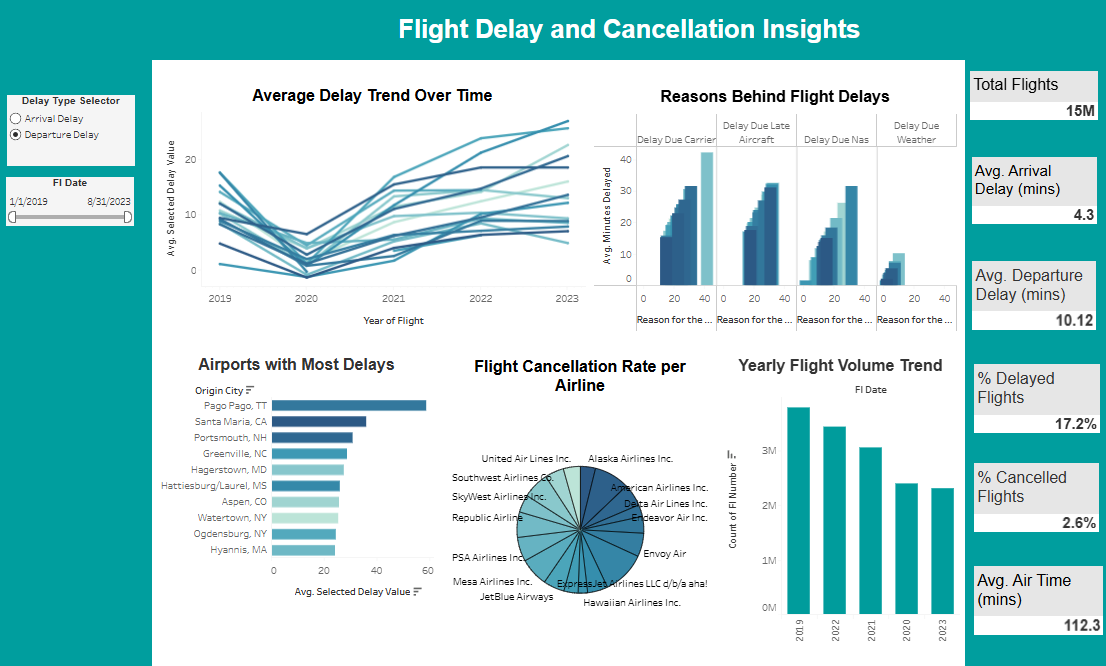

Layout of this report page (visuals, bound fields, positions):
{"tool":"tableau","page":{"name":"Dashboard 1","canvas":[1400,850],"ordinal":0},"visuals":[{"type":"text","box":[197,8,1194,76]},{"type":"worksheet","title":"Total Flights","mark":"Automatic","box":[1220,97,160,60]},{"type":"worksheet","title":"Average Delay Trend Over Time","mark":"Line","rows":["Calculation_1279585273599582211"],"cols":["FL_DATE"],"box":[206,110,534,313]},{"type":"worksheet","title":"Reasons Behind Flight Delays","mark":"Bar","rows":["Pivot Field Values"],"cols":["Pivot Field Names","Pivot Field Values"],"box":[750,112,454,311]},{"type":"parameter","param":"[Parameters].[Parameter 1]","box":[16,127,160,89]},{"type":"worksheet","title":"Avg. Arrival Delay (mins)","mark":"Automatic","box":[1222,205,157,81]},{"type":"filter","title":"Flight Cancellation Rate per Airline","param":"[federated.1k4gfc61nfwe5d1euy7pp1apjtoj].[none:FL_DATE:qk]","box":[15,230,160,61]},{"type":"worksheet","title":"Avg. Departure Delay (mins)","mark":"Automatic","box":[1223,335,154,83]},{"type":"worksheet","title":"Airports with Most Delays","mark":"Automatic","rows":["ORIGIN_CITY"],"cols":["Calculation_1279585273599582211"],"box":[206,446,344,377]},{"type":"worksheet","title":"Yearly Flight Volume Trend","mark":"Bar","rows":["FL_NUMBER"],"cols":["FL_DATE"],"box":[908,448,300,369]},{"type":"worksheet","title":"Flight Cancellation Rate per Airline","mark":"Pie","box":[572,449,321,380]},{"type":"worksheet","title":"% Delayed Flights","mark":"Automatic","box":[1225,464,158,83]},{"type":"worksheet","title":"% Cancelled Flights","mark":"Automatic","box":[1225,588,156,83]},{"type":"worksheet","title":"Avg. Air Time (mins)","mark":"Automatic","box":[1225,716,161,83]}]}

Visuals, with their boxes in screenshot pixels (x1, y1, x2, y2), scaled from the page's 1400x850 canvas onto the 1106x666 screenshot:
text: [156,6,1099,66]
"Total Flights" worksheet: [964,76,1090,123]
"Average Delay Trend Over Time" worksheet (Line marks): [163,86,585,331]
"Reasons Behind Flight Delays" worksheet (Bar marks): [592,88,951,331]
parameter: [13,100,139,169]
"Avg. Arrival Delay (mins)" worksheet: [965,161,1089,224]
"Flight Cancellation Rate per Airline" filter: [12,180,138,228]
"Avg. Departure Delay (mins)" worksheet: [966,262,1088,328]
"Airports with Most Delays" worksheet: [163,349,434,645]
"Yearly Flight Volume Trend" worksheet (Bar marks): [717,351,954,640]
"Flight Cancellation Rate per Airline" worksheet (Pie marks): [452,352,705,650]
"% Delayed Flights" worksheet: [968,364,1093,429]
"% Cancelled Flights" worksheet: [968,461,1091,526]
"Avg. Air Time (mins)" worksheet: [968,561,1095,626]
